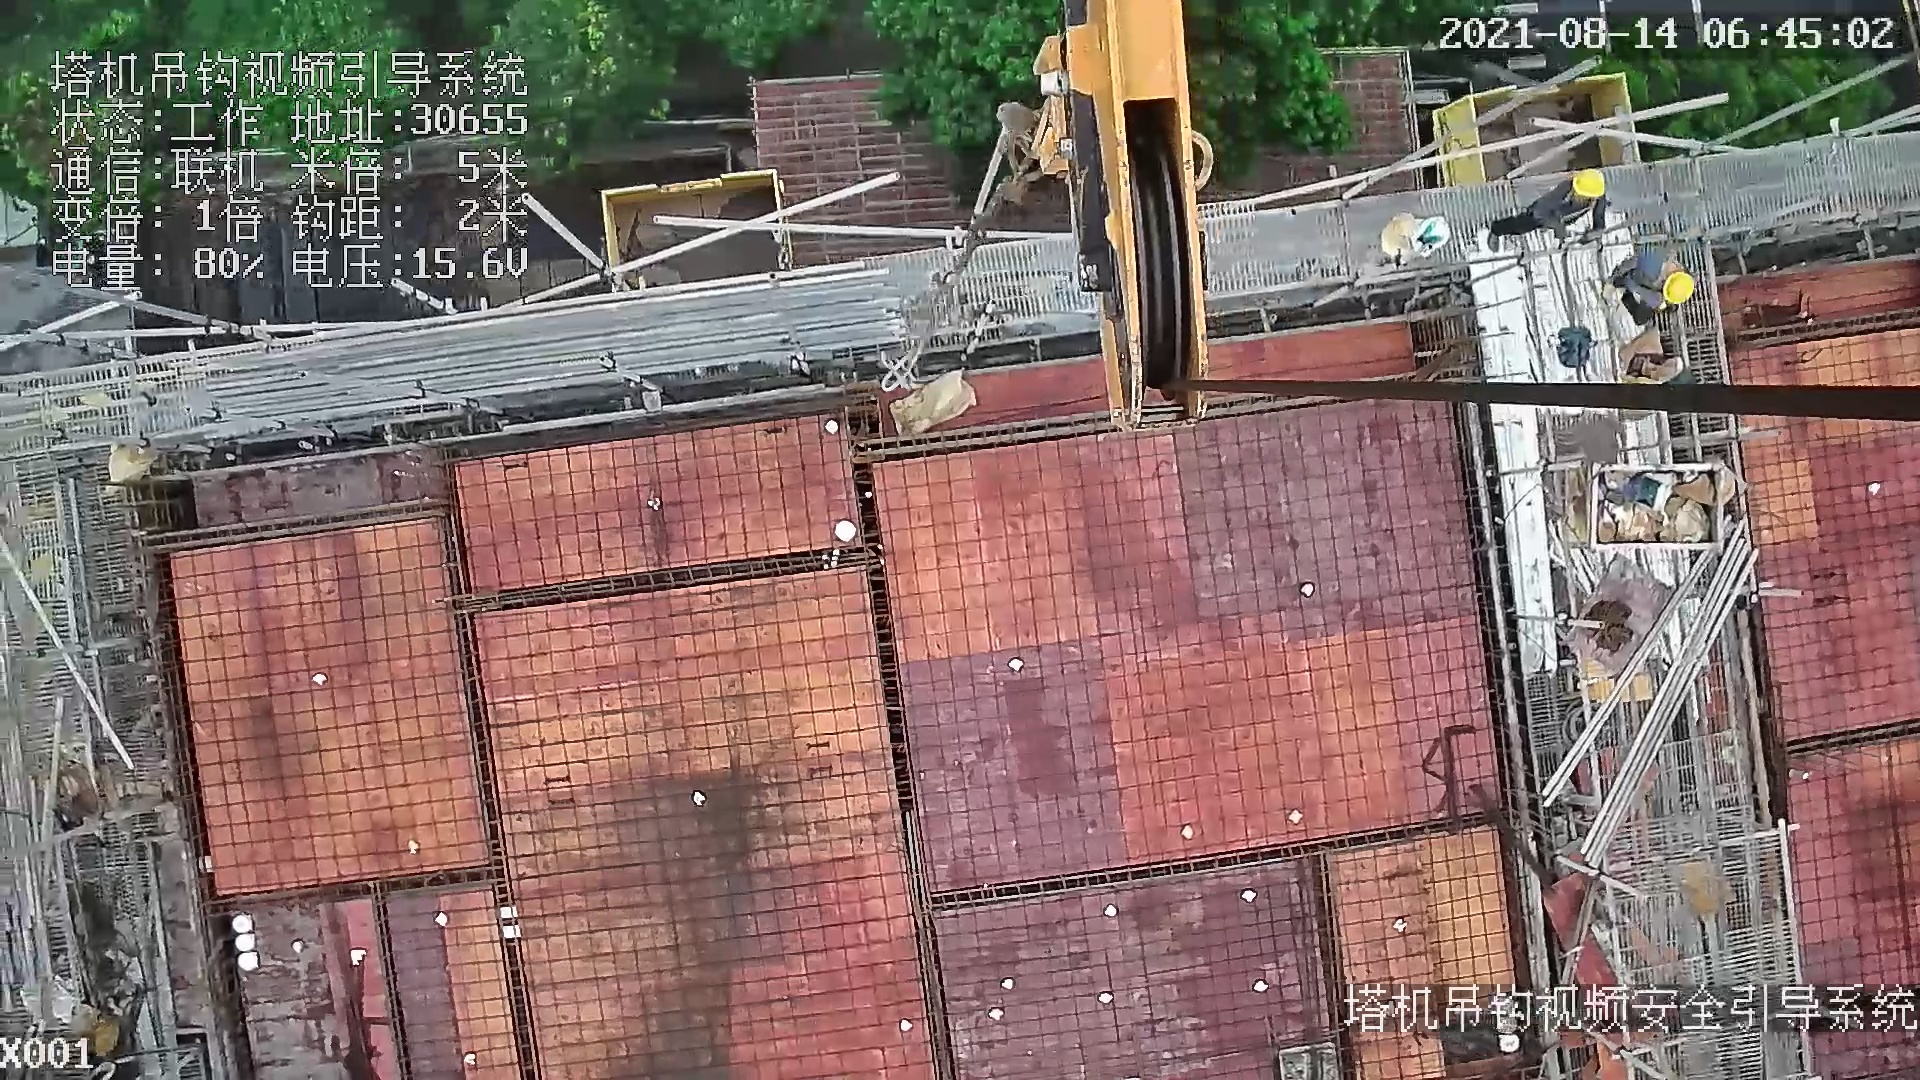helmet: (1663, 268, 1693, 308), (1571, 164, 1606, 197)
hook: (1004, 3, 1219, 428)
person: (1490, 169, 1613, 256), (1599, 245, 1699, 326)
